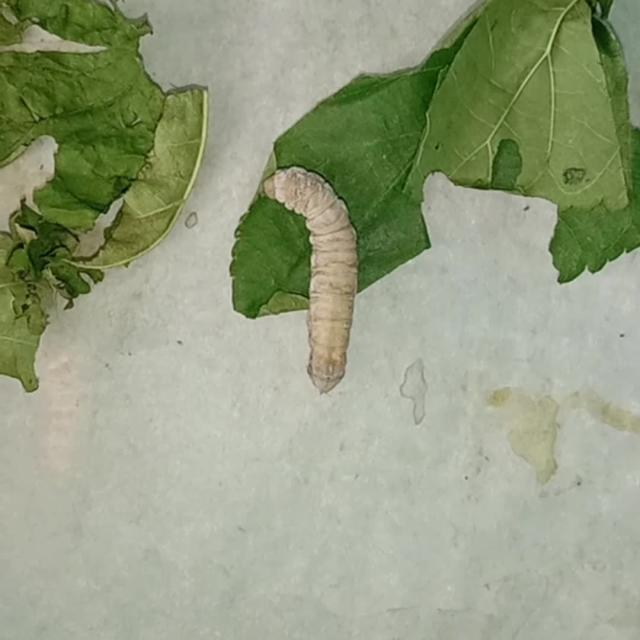Grasserie: (243, 129, 397, 422)
